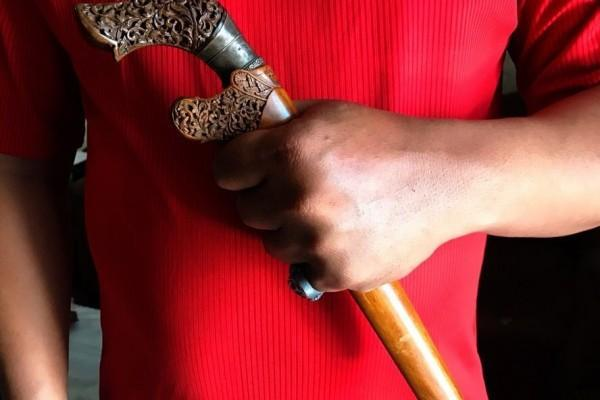facao: (70, 0, 468, 396)
